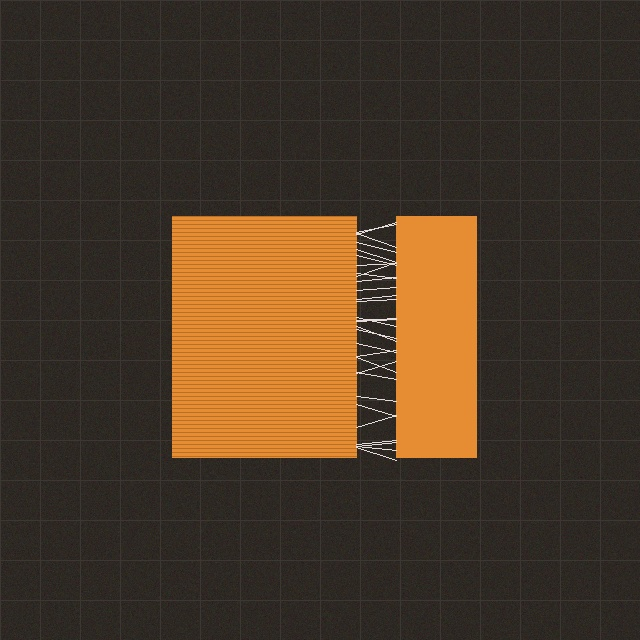stringing: (351, 216, 401, 457)
